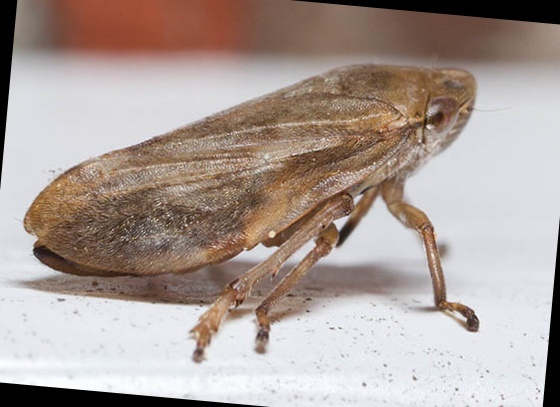Brown_hopper: (15, 24, 489, 369)
